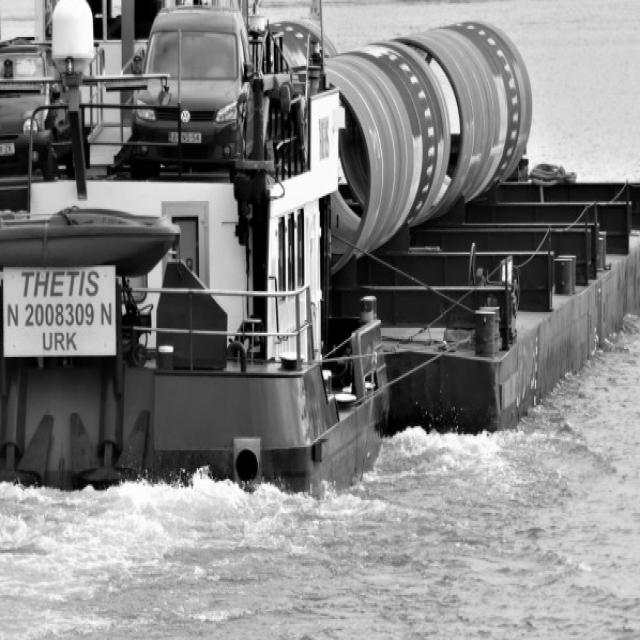tugboat: (1, 1, 396, 530)
